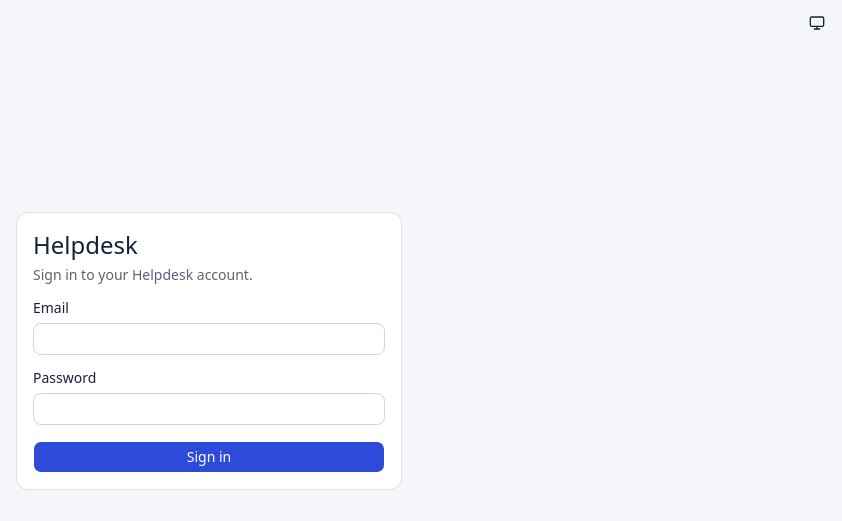
Test case: LoginPage › flags only an invalid email
In the field labelled "Email": x=209, y=339 [33,323,385,355], type "not-an-email"
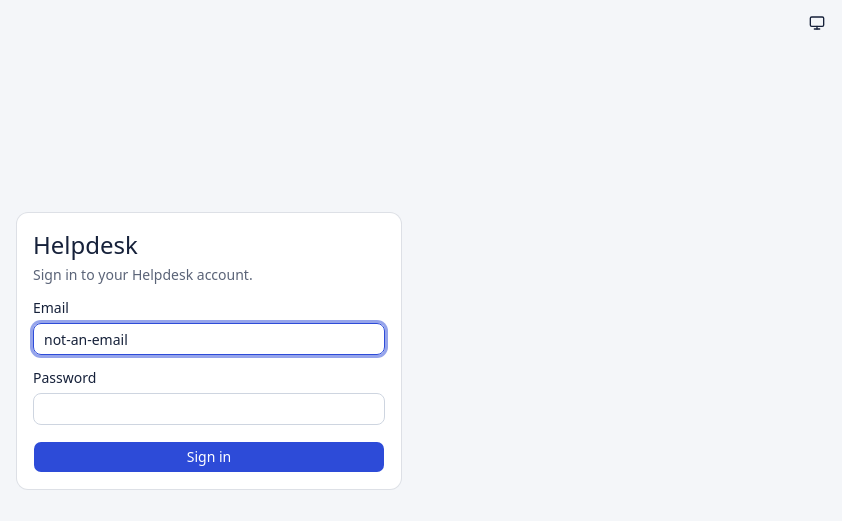
In the password field labelled "Password": x=209, y=409 [33,393,385,425], type "whatever-123456"
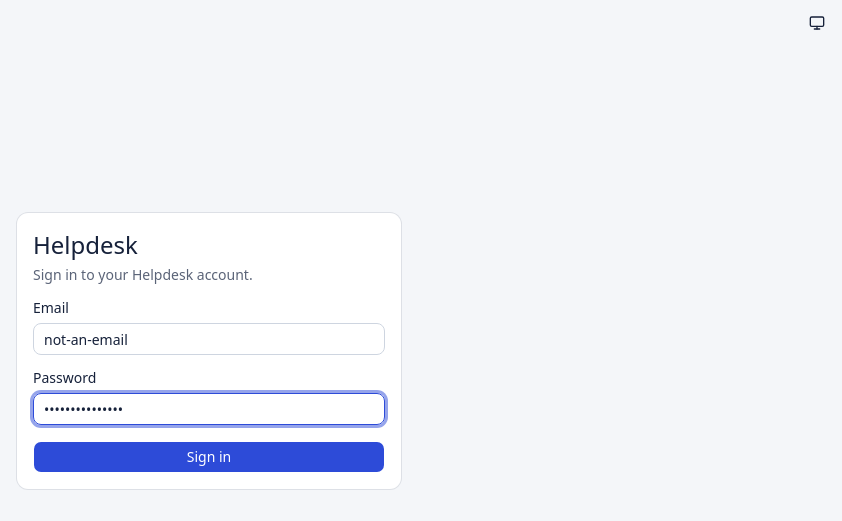
Click the button "Sign in": x=209, y=457 [33,441,385,473]
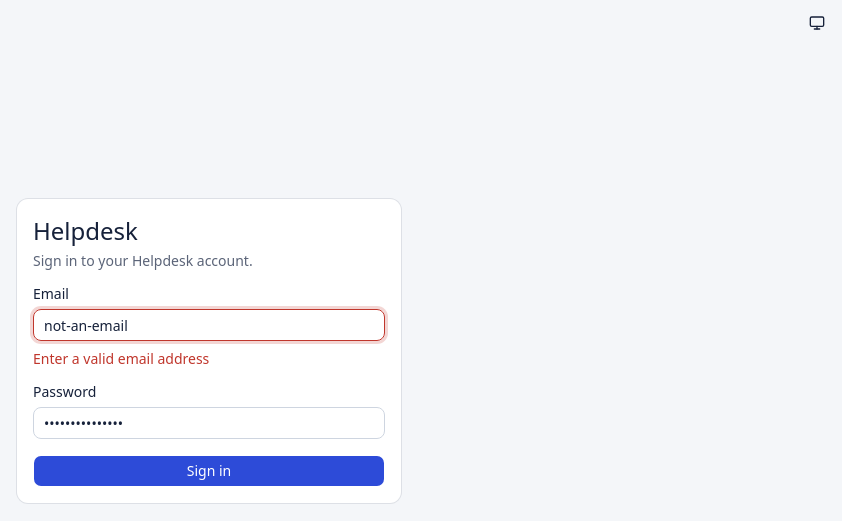
Now the text "Enter a valid email address" is shown, box [33,349,209,368]
